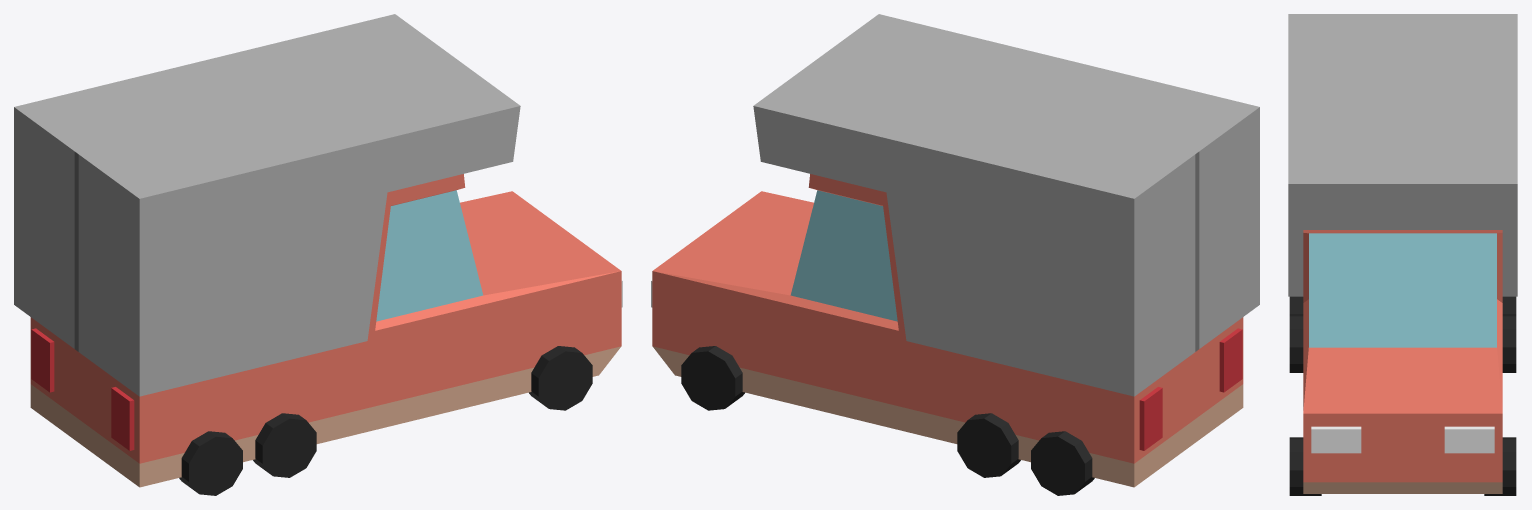
File: Car 5.fbx
3 renders of one model, left to right at view 1: azimuth 30°, elevation 25°; view 2: azimuth 150°, elevation 25°; view 3: azimuth 270°, elevation 25°, orthographic. The views are drawn at different scales.
Visible parts, largest first — view 1: Car_5; view 2: Car_5; view 3: Car_5.
Part boxes in pixels (<box>): Car_5: <box>14,14,622,495</box>; Car_5: <box>651,14,1259,495</box>; Car_5: <box>1288,14,1517,495</box>.
Bounding box in the file's own units: 525 × 320 × 230.
